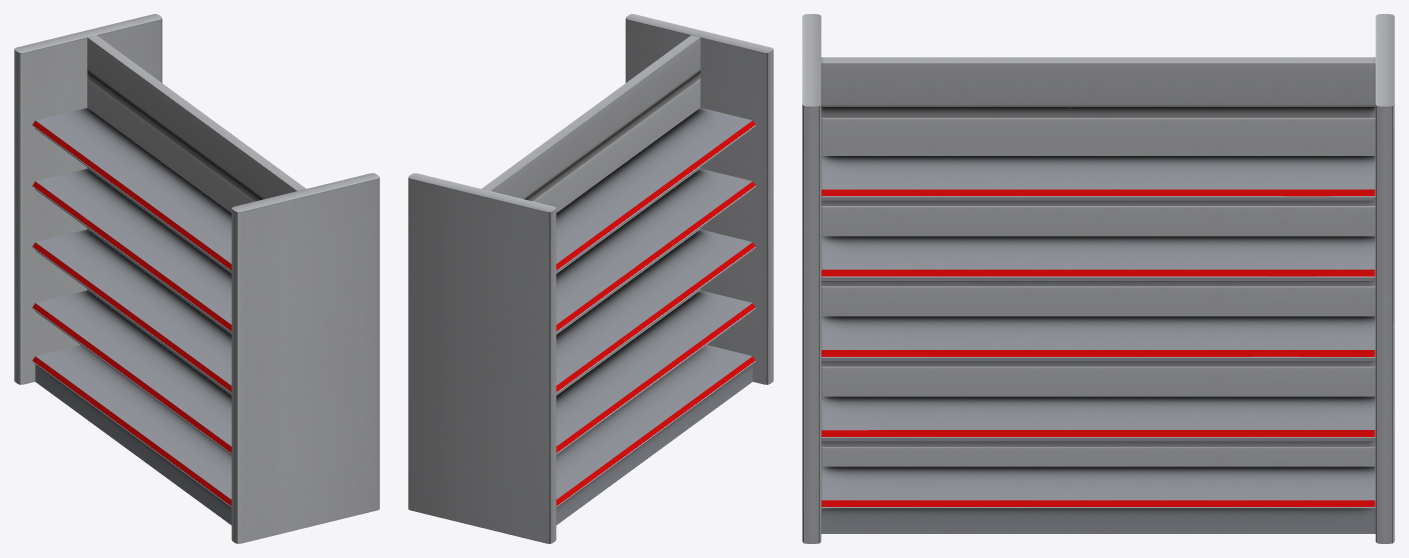
File: sp_rack_5.FBX
The picture shows the model from 3 angles, left to right: view 1: azimuth 30°, elevation 25°; view 2: azimuth 150°, elevation 25°; view 3: azimuth 270°, elevation 25°; orthographic projection. The views are drawn at different scales.
Visible parts, largest first — view 1: sp_rack_5; view 2: sp_rack_5; view 3: sp_rack_5.
Boxes of the visible parts, box(x1,y1,x2,y2) form: sp_rack_5: box(14, 14, 379, 543); sp_rack_5: box(408, 14, 773, 543); sp_rack_5: box(802, 14, 1394, 543).
Bounding box in the file's own units: 39.37 × 106 × 86.61.
